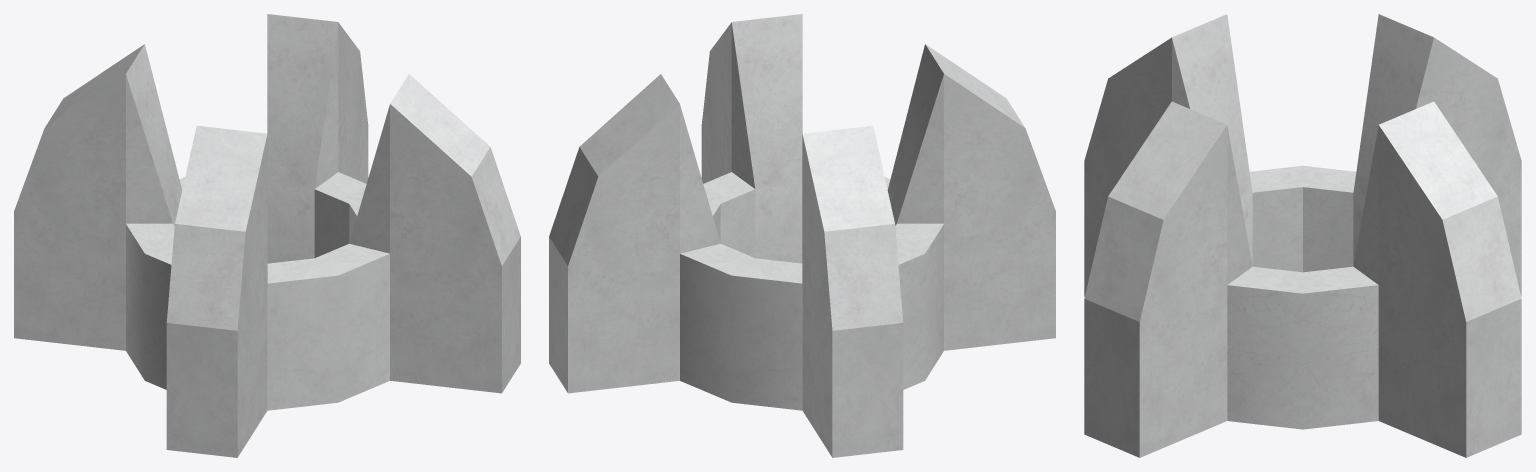
Rendered from SubBase.fbx.
3 views of the same model, side by side, from view 1: azimuth 30°, elevation 25°; view 2: azimuth 150°, elevation 25°; view 3: azimuth 270°, elevation 25° (orthographic). The views are drawn at different scales.
Visible parts, largest first — view 1: P_SubBase; view 2: P_SubBase; view 3: P_SubBase.
Part boxes in pixels (box(x1,y1,x2,y2)): P_SubBase: box(14, 14, 520, 457); P_SubBase: box(549, 14, 1055, 457); P_SubBase: box(1084, 14, 1521, 457).
Bounding box in the file's own units: 8.67 × 6.48 × 8.67.
Materials: 1 (1 with a texture image).
